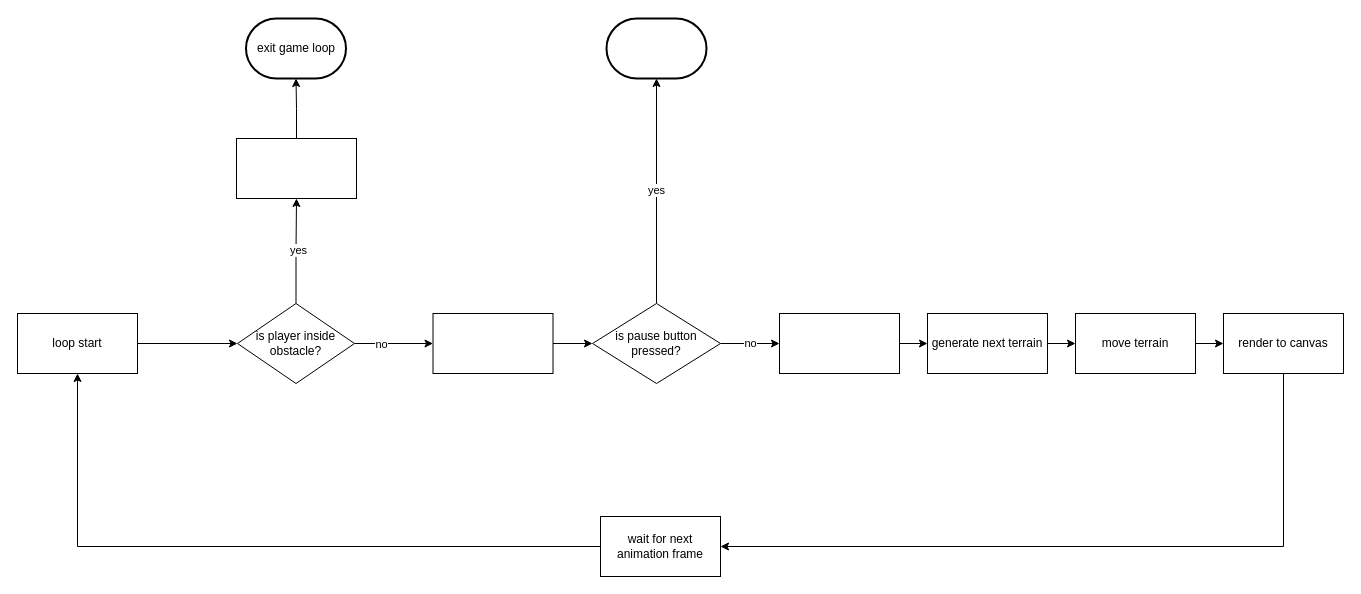
The diagram is 1361 pixels wide and 594 high, and some of its shapes have lost their labels. Here are the shapes that lost their labels. From the top down, the centre of each, then its label:
At pixel 656 48: "pause game loop".
At pixel 296 168: "dead".
At pixel 492 343: "read inputs".
At pixel 839 343: "move player based on inputs".
